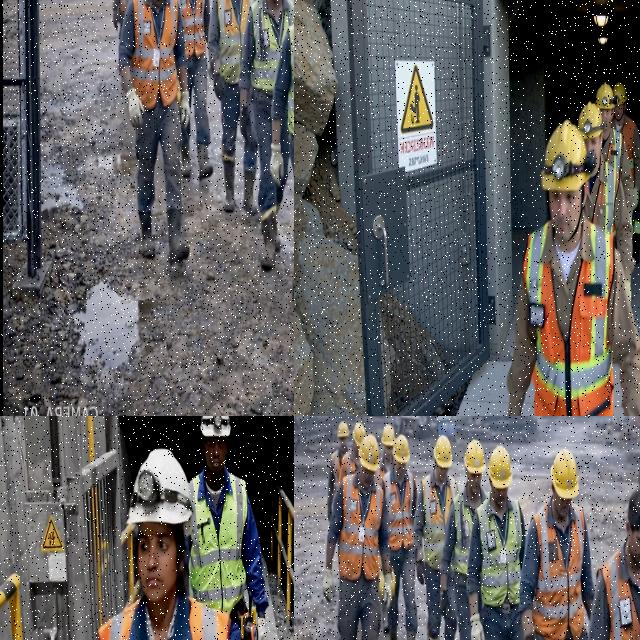Vest: (523, 223, 612, 415), (189, 475, 246, 612), (532, 504, 584, 639), (130, 0, 177, 109), (477, 498, 521, 607), (338, 475, 382, 580), (251, 0, 293, 93), (597, 551, 639, 639), (421, 474, 457, 569), (216, 0, 254, 84), (384, 470, 413, 551), (450, 490, 472, 576), (592, 162, 619, 232), (176, 0, 205, 59), (189, 599, 228, 639), (621, 116, 634, 181), (606, 128, 622, 170), (287, 24, 293, 135), (338, 450, 356, 482), (331, 450, 341, 493), (118, 0, 128, 17)
Worker: (507, 121, 639, 415), (99, 450, 228, 639), (118, 0, 189, 264), (187, 416, 267, 639), (239, 0, 293, 270), (322, 435, 392, 639), (520, 449, 593, 639), (467, 446, 524, 639), (578, 103, 634, 288), (208, 0, 254, 212), (440, 440, 486, 639), (414, 435, 457, 639), (588, 488, 639, 639), (383, 435, 416, 639), (175, 0, 212, 179), (595, 83, 634, 215), (270, 24, 293, 186), (612, 83, 639, 207), (327, 421, 348, 521), (337, 422, 365, 482), (377, 424, 394, 482), (112, 0, 128, 31), (633, 192, 639, 263)
helmet: (127, 450, 191, 535), (541, 120, 593, 191), (550, 448, 578, 499), (576, 103, 604, 139), (488, 446, 511, 489), (359, 434, 378, 472), (464, 440, 484, 473), (200, 416, 229, 437), (433, 435, 451, 468), (393, 434, 409, 464), (595, 83, 613, 109), (352, 422, 365, 446), (613, 83, 626, 105), (381, 425, 394, 447), (337, 421, 348, 438)
